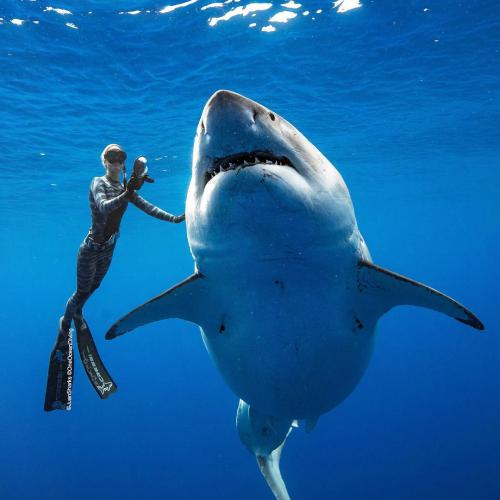shark-endangered: (167, 79, 408, 437)
